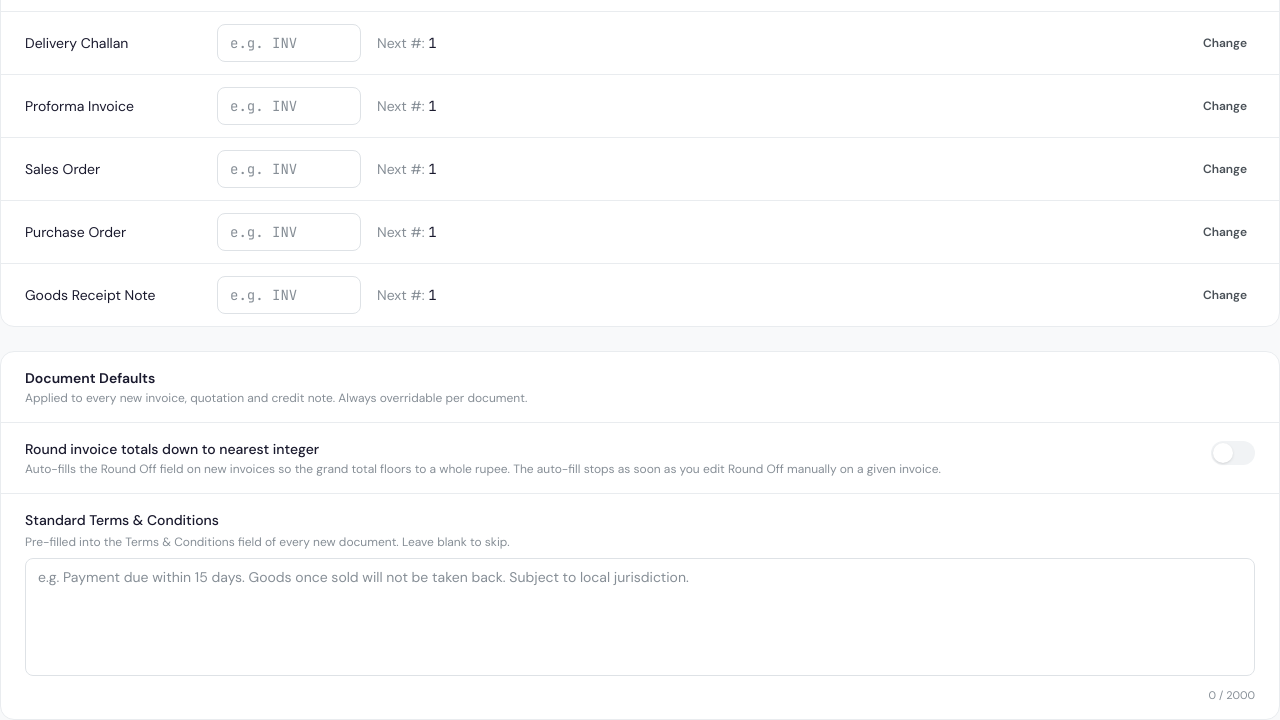
DocumentsTab — Document Defaults card › typing in T&C textarea updates the character counter live
(page scrolled)
Replace the text in the text box labelled "Standard Terms & Conditions" with "abc" at (640, 616), box [25,558,1255,676]
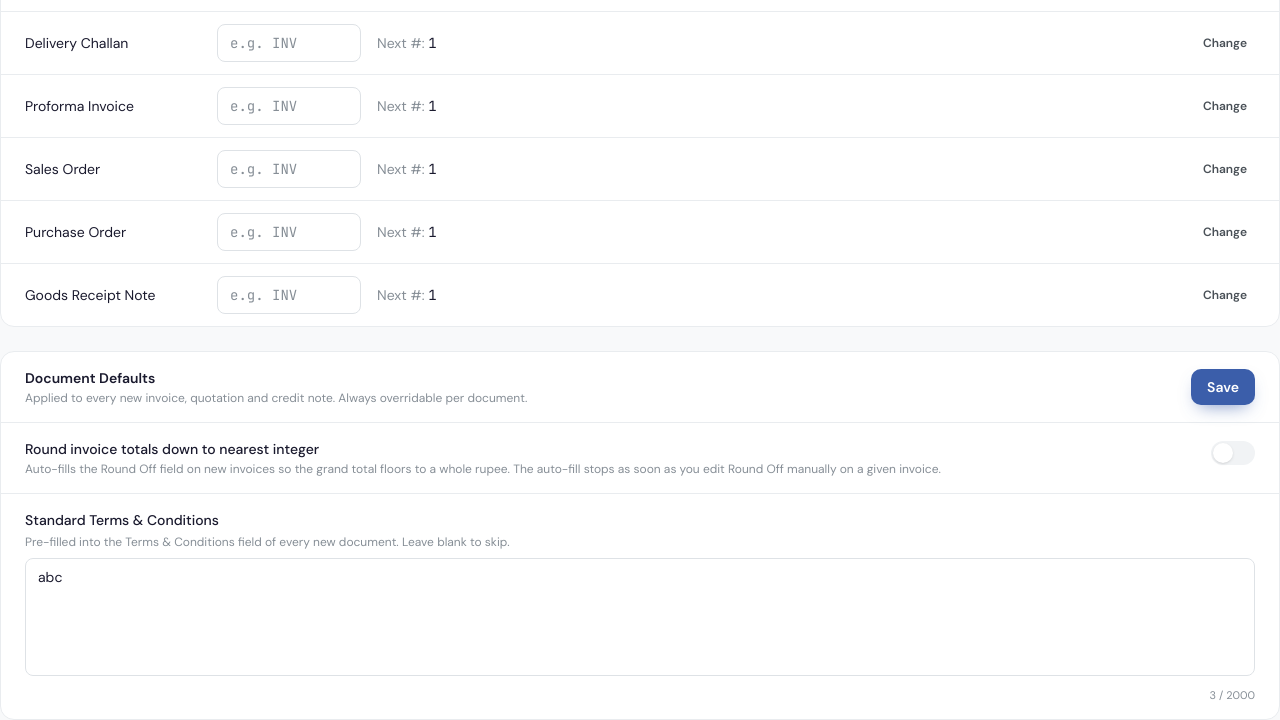
Check: the text "3 / 2000" is shown, box [1210,688,1255,702]
